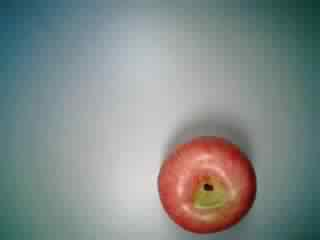apple: (156, 133, 260, 234)
